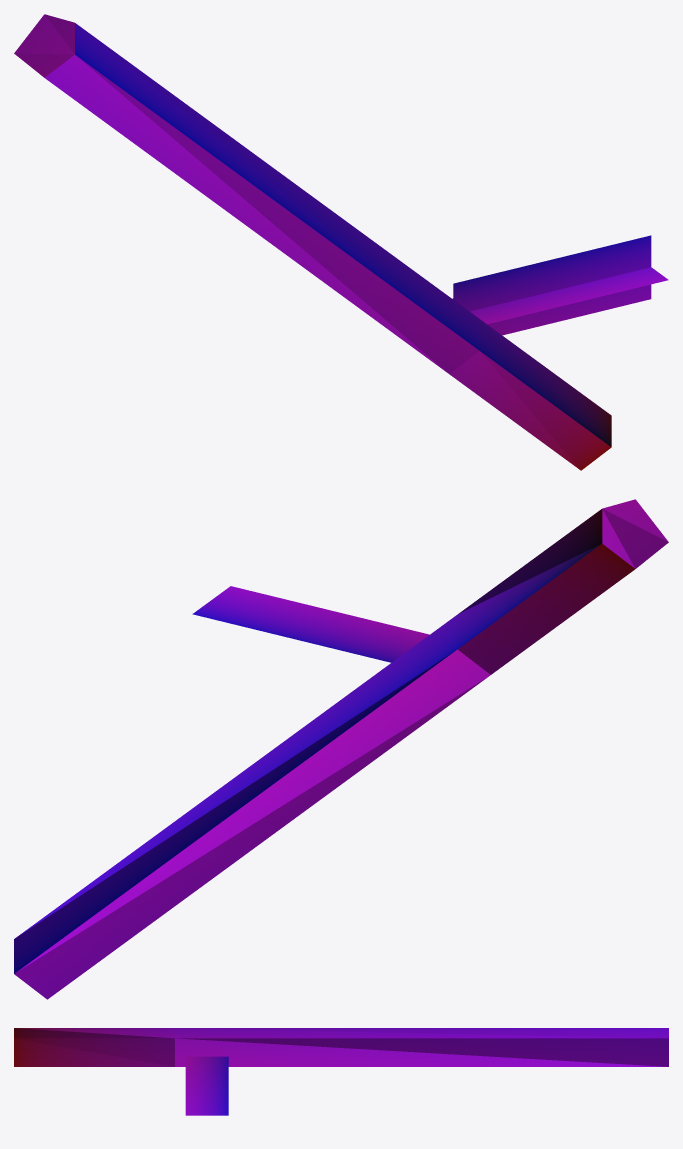
3 renders of one model, top to bottom at view 1: azimuth 30°, elevation 25°; view 2: azimuth 150°, elevation 25°; view 3: azimuth 270°, elevation 25°, orthographic. The views are drawn at different scales.
Parts seen in each view (by area): view 1: model_2CB6; view 2: model_2CB6; view 3: model_2CB6.
Part boxes in pixels (x1,y1,x2,y2): model_2CB6: (14, 14, 668, 470); model_2CB6: (14, 499, 668, 999); model_2CB6: (14, 1028, 668, 1115).
Bounding box in the file's own units: 17.13 × 4.03 × 61.48.
